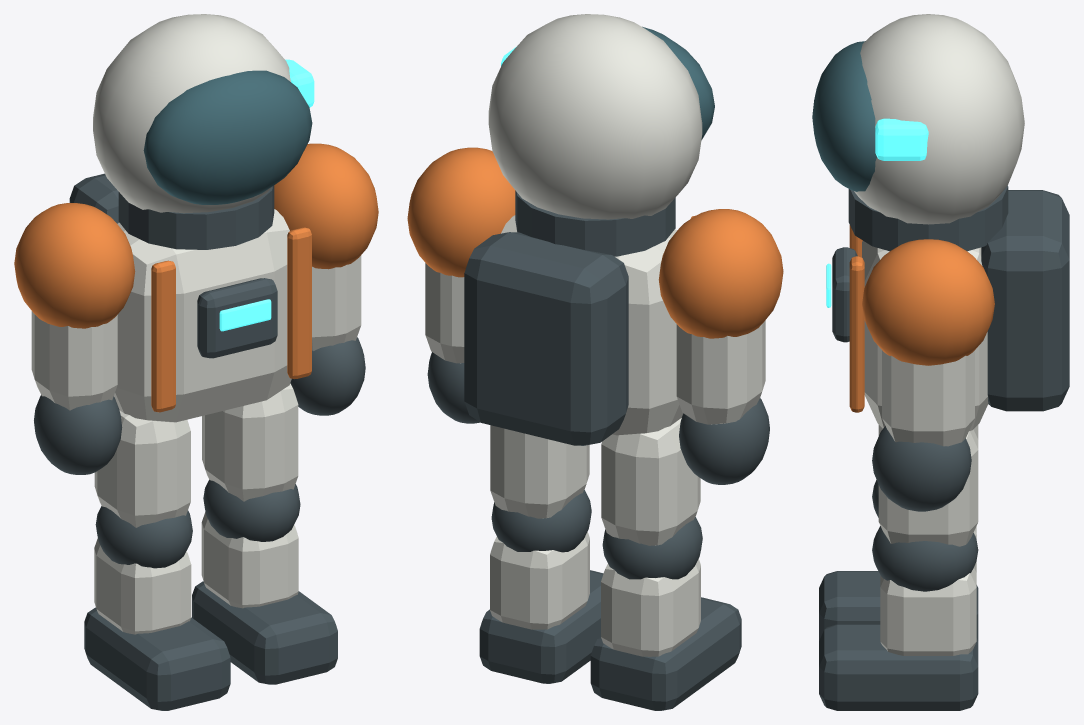
Rendered from commander.glb.
3 views of the same model, side by side, from view 1: azimuth 30°, elevation 25°; view 2: azimuth 150°, elevation 25°; view 3: azimuth 270°, elevation 25° (orthographic). The views are drawn at different scales.
Visible parts, largest first — view 1: Commander / Ceramic shell, Commander / Visor glass, RightLeg / Ceramic shell, LeftLeg / Ceramic shell, LeftLeg / Graphite machinery, RightLeg / Graphite machinery, LeftArm / Safety ochre, Commander / Graphite machinery, RightArm / Safety ochre, Commander / Safety ochre, LeftArm / Ceramic shell, LeftArm / Graphite machinery (+3 smaller); view 2: Commander / Ceramic shell, Commander / Graphite machinery, LeftLeg / Ceramic shell, RightLeg / Ceramic shell, LeftArm / Safety ochre, LeftLeg / Graphite machinery, RightLeg / Graphite machinery, RightArm / Safety ochre, LeftArm / Ceramic shell, LeftArm / Graphite machinery, RightArm / Ceramic shell, RightArm / Graphite machinery (+1 smaller); view 3: Commander / Ceramic shell, Commander / Graphite machinery, RightLeg / Graphite machinery, RightArm / Safety ochre, RightLeg / Ceramic shell, RightArm / Ceramic shell, Commander / Visor glass, RightArm / Graphite machinery, LeftLeg / Graphite machinery, Commander / Safety ochre, Commander / Instrument cyan.
Part boxes in pixels (x1,y1,x2,y2): Commander / Ceramic shell: [93, 14, 291, 422]; Commander / Visor glass: [143, 70, 312, 204]; RightLeg / Ceramic shell: [201, 383, 298, 608]; LeftLeg / Ceramic shell: [94, 410, 191, 634]; LeftLeg / Graphite machinery: [84, 506, 230, 710]; RightLeg / Graphite machinery: [192, 479, 337, 684]; LeftArm / Safety ochre: [14, 203, 135, 328]; Commander / Graphite machinery: [69, 173, 277, 358]; RightArm / Safety ochre: [274, 143, 378, 269]; Commander / Safety ochre: [151, 227, 311, 412]; LeftArm / Ceramic shell: [31, 311, 117, 410]; LeftArm / Graphite machinery: [34, 395, 122, 474]; Commander / Ceramic shell: [488, 14, 702, 435]; Commander / Graphite machinery: [464, 190, 675, 445]; LeftLeg / Ceramic shell: [601, 418, 700, 656]; RightLeg / Ceramic shell: [490, 425, 589, 629]; LeftArm / Safety ochre: [658, 209, 783, 338]; LeftLeg / Graphite machinery: [590, 517, 741, 710]; RightLeg / Graphite machinery: [479, 490, 603, 683]; RightArm / Safety ochre: [407, 147, 515, 277]; LeftArm / Ceramic shell: [676, 320, 765, 424]; LeftArm / Graphite machinery: [679, 398, 769, 484]; RightArm / Ceramic shell: [425, 263, 464, 363]; RightArm / Graphite machinery: [427, 352, 479, 423]; Commander / Ceramic shell: [854, 14, 1024, 431]; Commander / Graphite machinery: [832, 185, 1069, 411]; RightLeg / Graphite machinery: [819, 526, 978, 710]; RightArm / Safety ochre: [862, 239, 994, 365]; RightLeg / Ceramic shell: [878, 429, 978, 655]; RightArm / Ceramic shell: [882, 350, 974, 446]; Commander / Visor glass: [812, 41, 876, 191]; RightArm / Graphite machinery: [872, 426, 971, 511]; LeftLeg / Graphite machinery: [819, 480, 978, 640]; Commander / Safety ochre: [849, 225, 864, 412]; Commander / Instrument cyan: [826, 118, 928, 307].
Size of the model in its own units: 1.22 by 2.15 by 0.775.
